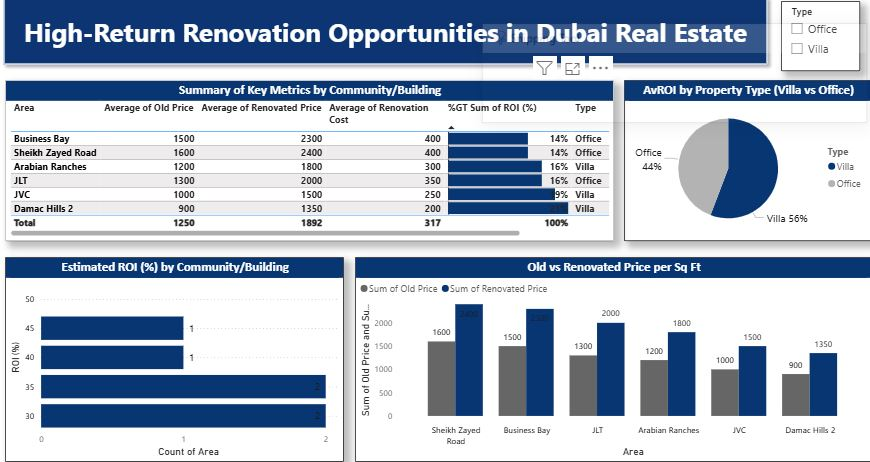

What the dashboard file says about the page in this screenshot:
{"tool":"powerbi","page":{"name":"Data Analyst Task Submission_sufeel","canvas":[1280,720],"ordinal":0},"visuals":[{"type":"shape","box":[0,0,1118.9,100],"z":0},{"type":"pieChart","title":"AvROI by Property Type (Villa vs Office)","fields":{"Y":["Dubai_Renovation_Data.ROI (%)"],"Category":["Dubai_Renovation_Data.Type"]},"box":[858.6,100,400,250],"z":1000},{"type":"clusteredBarChart","title":"Estimated ROI (%) by Community/Building","fields":{"Y":["Dubai_Renovation_Data.ROI %"],"Category":["Dubai_Renovation_Data.Area"]},"box":[858.6,370,400,250],"z":2000},{"type":"clusteredColumnChart","title":"Old vs Renovated Price per Sq Ft","fields":{"Category":["Dubai_Renovation_Data.Area"],"Y":["Dubai_Renovation_Data.Old Price","Dubai_Renovation_Data.Renovated Price"]},"box":[11.4,370,825.7,250],"z":3000},{"type":"slicer","fields":{"Values":["Dubai_Renovation_Data.Type"]},"box":[1118.6,4.3,140,90],"z":4000},{"type":"tableEx","title":"Summary of Key Metrics by Community/Building","fields":{"Values":["Dubai_Renovation_Data.Area","Dubai_Renovation_Data.Old Price","Dubai_Renovation_Data.Renovated Price","Dubai_Renovation_Data.Renovation Cost","Dubai_Renovation_Data.ROI (%)","Dubai_Renovation_Data.Type","Dubai_Renovation_Data.Estimated Uplift"]},"box":[12,103,825.7,250],"z":5000}]}

Visuals, with their boxes on the page's 1280x720 design canvas (x1, y1, x2, y2). These are canvas units, not pixel positions in the 870x462 screenshot, which may show the page scaled, cropped or inside an application window:
shape: <bbox>0, 0, 1119, 100</bbox>
"AvROI by Property Type (Villa vs Office)" pieChart: <bbox>859, 100, 1259, 350</bbox>
"Estimated ROI (%) by Community/Building" clusteredBarChart: <bbox>859, 370, 1259, 620</bbox>
"Old vs Renovated Price per Sq Ft" clusteredColumnChart: <bbox>11, 370, 837, 620</bbox>
slicer - Dubai_Renovation_Data.Type: <bbox>1119, 4, 1259, 94</bbox>
"Summary of Key Metrics by Community/Building" tableEx: <bbox>12, 103, 838, 353</bbox>
